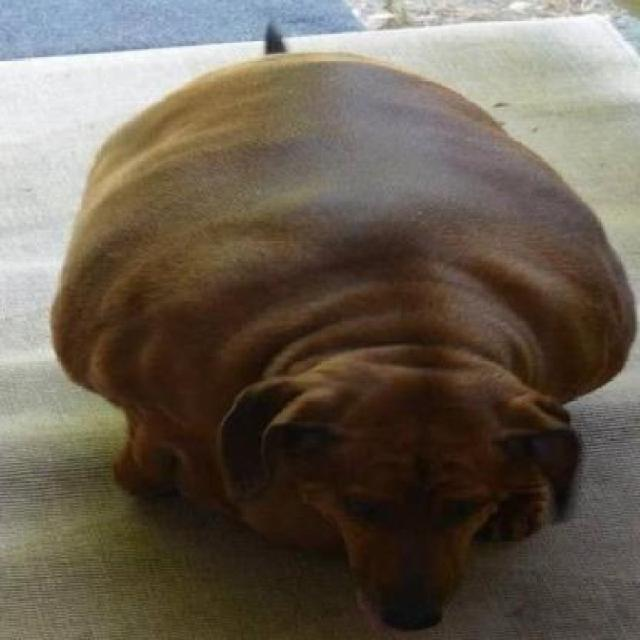Dog: (45, 18, 637, 632)
